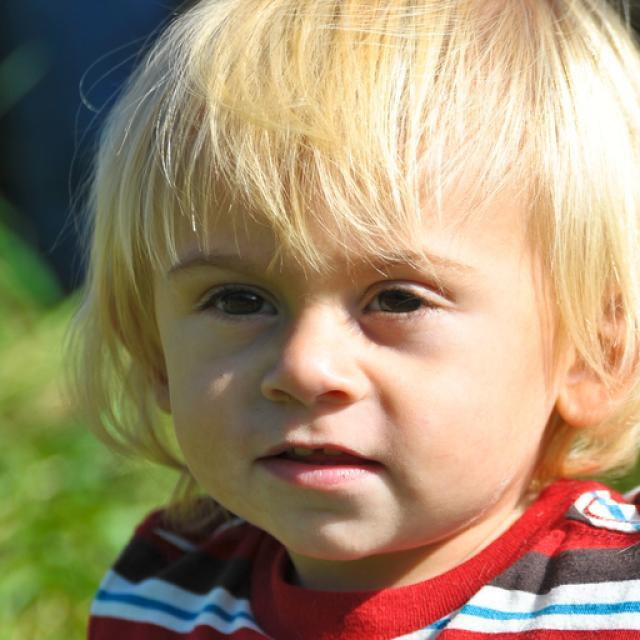anger: (156, 99, 549, 562)
